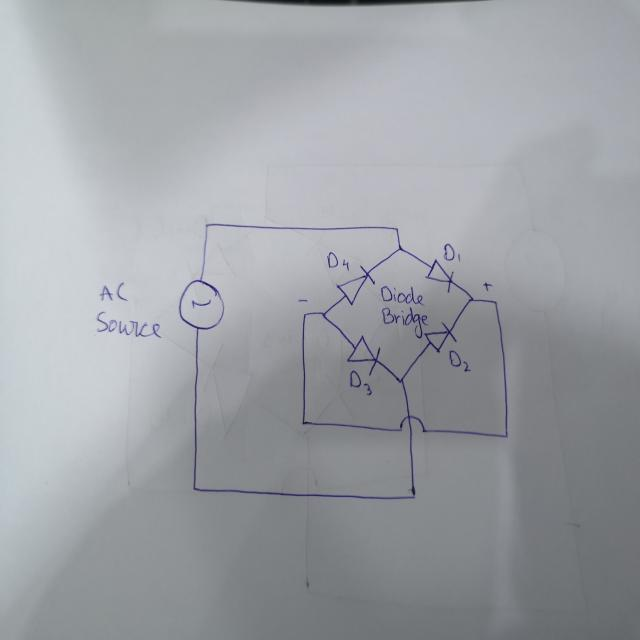crossover: (397, 412, 428, 435)
diode: (334, 262, 376, 308), (346, 332, 382, 377), (423, 320, 458, 355), (424, 256, 454, 294)
junction: (188, 479, 200, 496), (408, 484, 418, 500), (202, 218, 212, 233), (396, 372, 406, 387), (299, 416, 308, 428), (502, 429, 510, 442), (395, 243, 404, 254), (320, 308, 328, 320), (491, 297, 499, 306), (393, 224, 400, 234), (300, 309, 307, 319), (467, 295, 474, 304)
source: (175, 276, 226, 332)
text: (92, 308, 164, 342), (379, 304, 430, 340), (378, 282, 426, 308), (98, 279, 130, 305), (348, 368, 372, 396), (447, 347, 472, 373), (324, 249, 351, 272), (442, 241, 461, 263), (480, 279, 492, 290), (296, 295, 310, 304)
